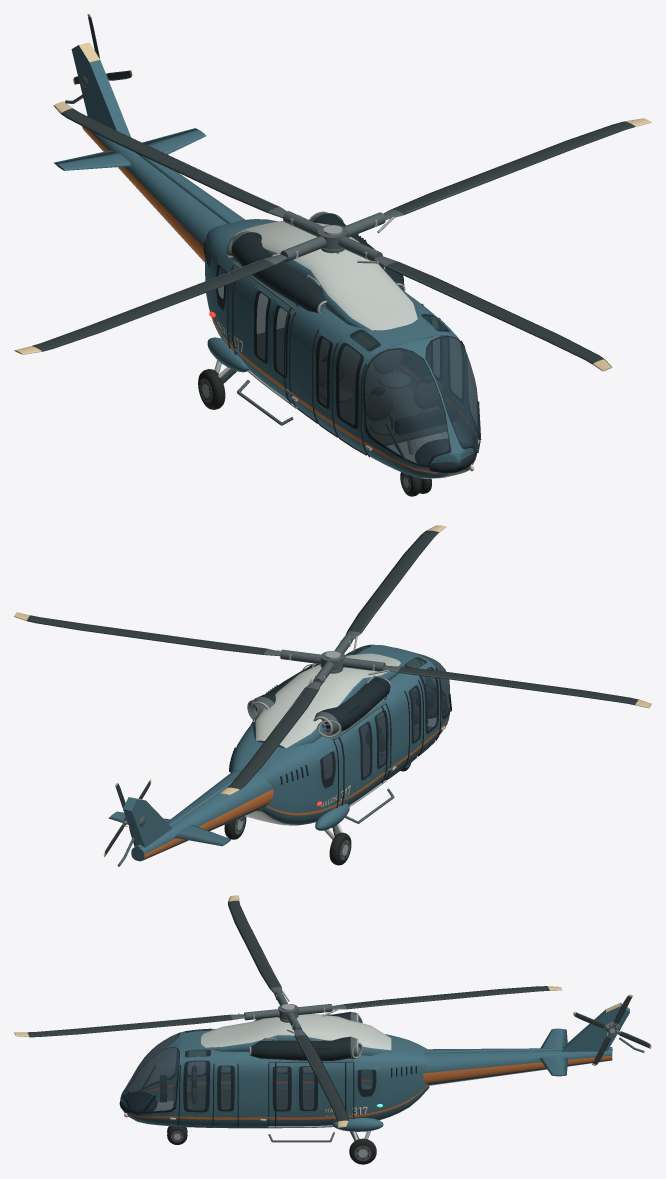
Rendered from DURUM.glb.
The picture shows the model from 3 angles, top to bottom: view 1: azimuth 30°, elevation 25°; view 2: azimuth 150°, elevation 25°; view 3: azimuth 270°, elevation 25°; orthographic projection. The views are drawn at different scales.
Visible parts, largest first — view 1: Airframe, MainRotor; view 2: Airframe, MainRotor; view 3: Airframe, MainRotor, TailRotor.
Part boxes in pixels (x1=…): Airframe: x1=54, y1=42, x2=481, y2=496; MainRotor: x1=14, y1=101, x2=651, y2=371; Airframe: x1=108, y1=644, x2=451, y2=866; MainRotor: x1=14, y1=525, x2=651, y2=795; Airframe: x1=119, y1=1002, x2=644, y2=1164; MainRotor: x1=14, y1=895, x2=562, y2=1127; TailRotor: x1=573, y1=994, x2=651, y2=1065.
Size of the model in its own units: 15.57 by 4.77 by 18.11.
Materials: 17 (1 with a texture image).
